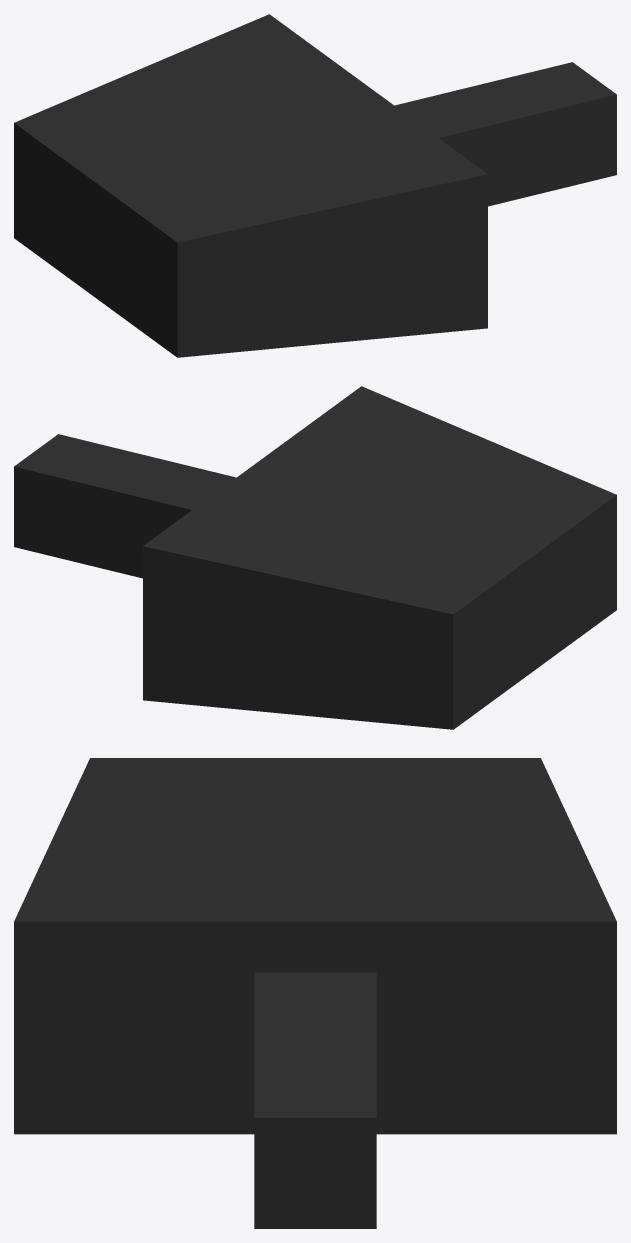
File: Toaster_C2_02.fbx
The picture shows the model from 3 angles, top to bottom: view 1: azimuth 30°, elevation 25°; view 2: azimuth 150°, elevation 25°; view 3: azimuth 270°, elevation 25°; orthographic projection. The views are drawn at different scales.
Visible parts, largest first — view 1: Toaster_C2_02; view 2: Toaster_C2_02; view 3: Toaster_C2_02.
Boxes of the visible parts, x1,y1,x2,y2 form: Toaster_C2_02: (14, 14, 616, 357); Toaster_C2_02: (14, 386, 616, 729); Toaster_C2_02: (14, 758, 616, 1228).
Size of the model in its own units: 4.56 by 1.35 by 3.46.
